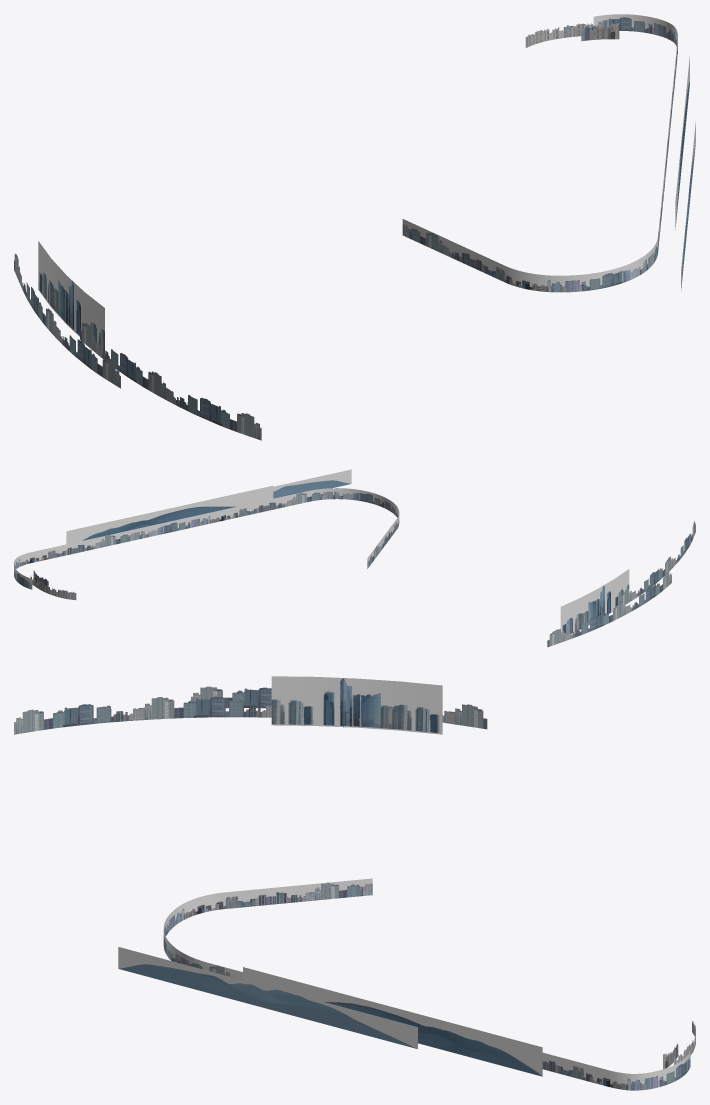
File: 뒷배경.fbx
3 views of the same model, one above another, from view 1: azimuth 30°, elevation 25°; view 2: azimuth 150°, elevation 25°; view 3: azimuth 270°, elevation 25° (orthographic). The views are drawn at different scales.
Parts seen in each view (by area): view 1: Group_166579, Group_166581, Group_166573, Group_166571, Group_166575; view 2: Group_166579, Group_166583, Group_166581, Group_166571, Group_166585, Group_166573, Group_166575; view 3: Group_166581, Group_166579, Group_166585, Group_166583, Group_166573, Group_166571.
Part boxes in pixels (box(x1,y1,x2,y2)): Group_166579: box(402, 14, 677, 292); Group_166581: box(38, 241, 104, 353); Group_166573: box(80, 323, 261, 440); Group_166571: box(14, 253, 120, 388); Group_166575: box(525, 23, 612, 47); Group_166579: box(14, 488, 399, 589); Group_166583: box(66, 485, 273, 544); Group_166581: box(560, 569, 629, 634); Group_166571: box(547, 571, 671, 647); Group_166585: box(273, 469, 351, 498); Group_166573: box(619, 521, 695, 606); Group_166575: box(30, 575, 76, 600); Group_166581: box(271, 676, 442, 734); Group_166579: box(163, 878, 690, 1090); Group_166585: box(118, 947, 417, 1048); Group_166583: box(243, 967, 542, 1076); Group_166573: box(14, 696, 271, 734); Group_166571: box(191, 686, 487, 729).
Bounding box in the file's own units: 325139 × 19701 × 247590.
